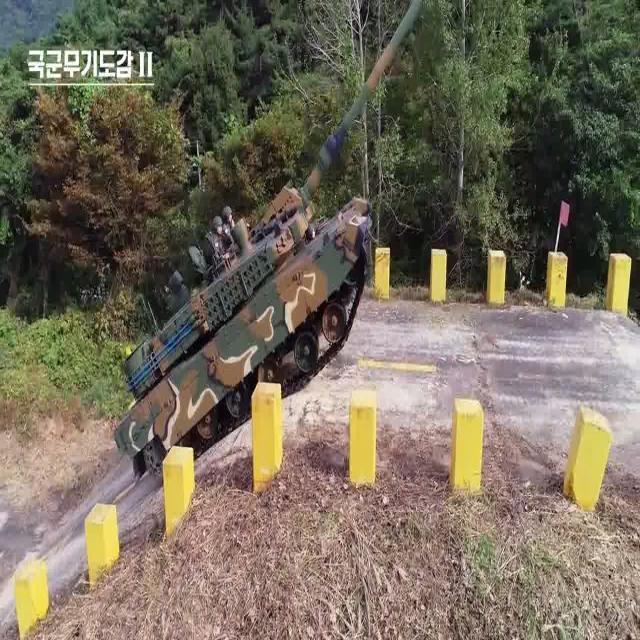korea tank: (109, 1, 429, 491)
